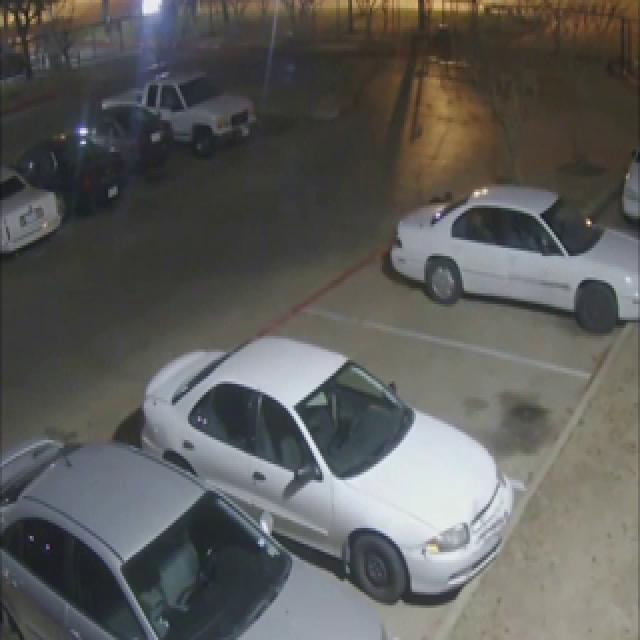arrest: (395, 23, 640, 356)
